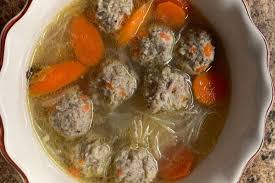bakso: (50, 19, 220, 179)
